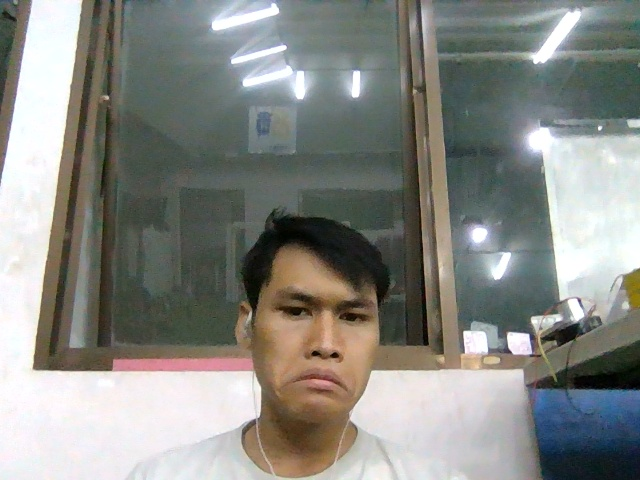mask_off: (252, 345, 378, 424)
